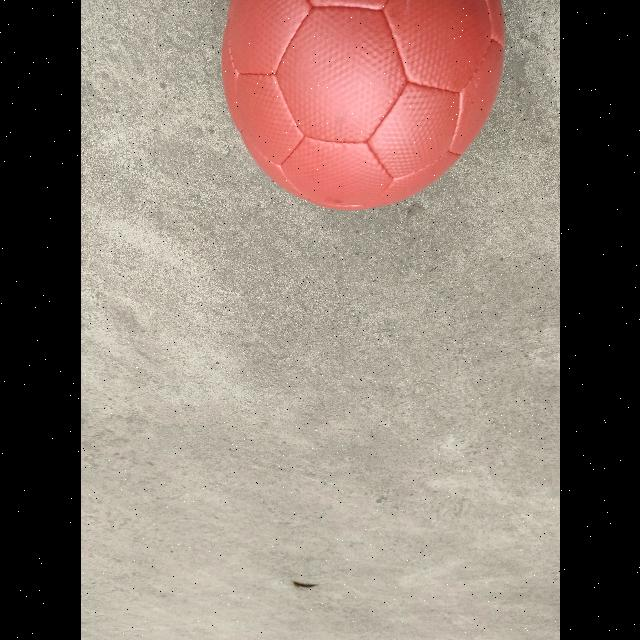R: (222, 0, 506, 210)
